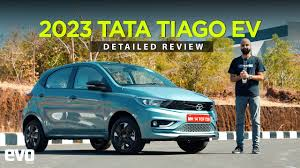Tiago: (21, 58, 221, 159)
